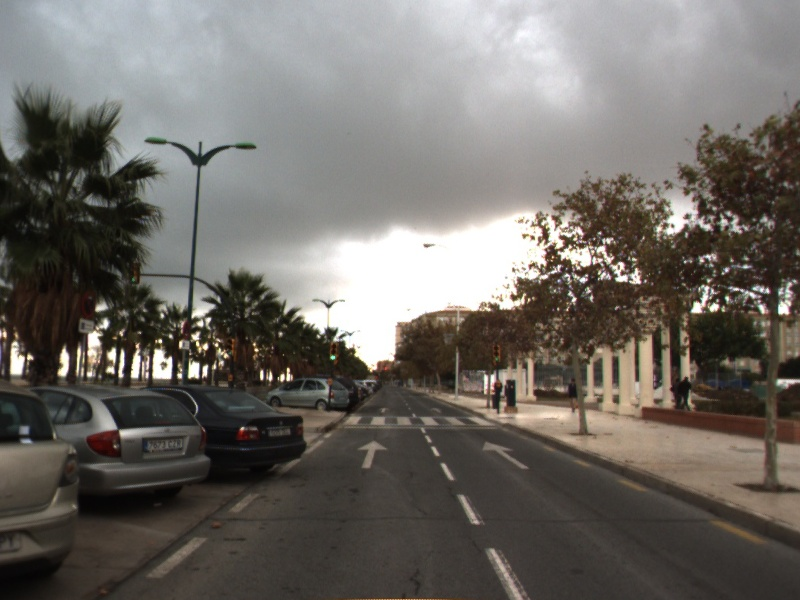STRAIGHT: (481, 440, 530, 470), (356, 439, 389, 470)
